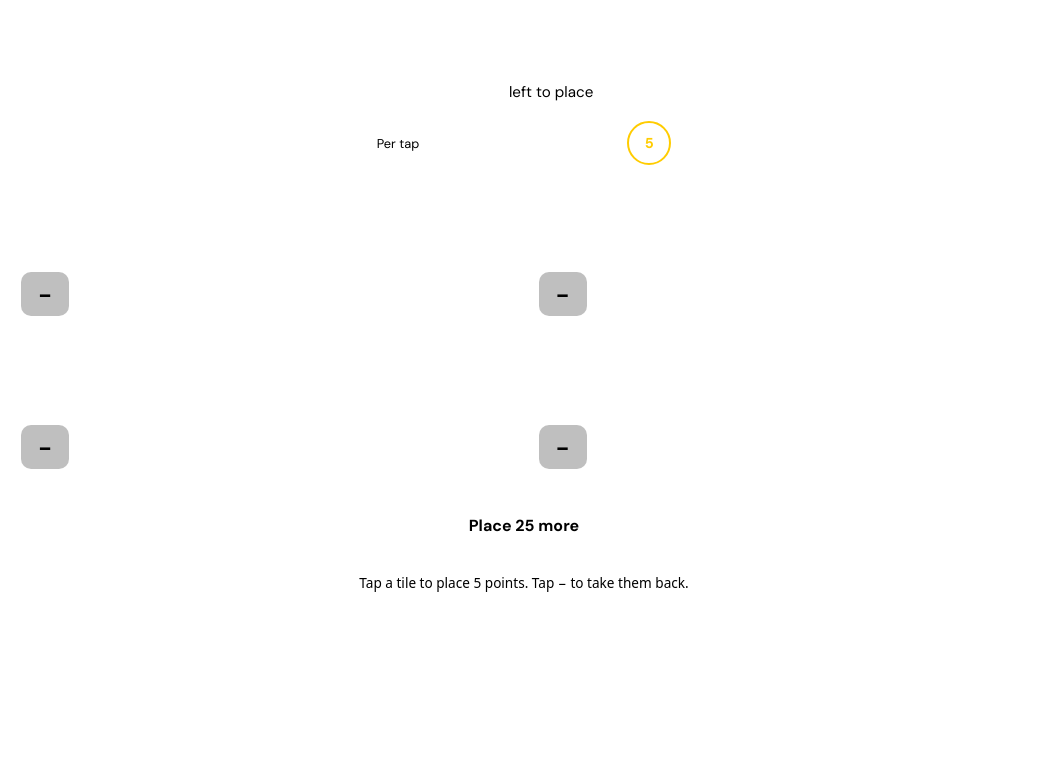
it: <DropBoard> › has no one-tap All in button — going all in takes deliberate taps
The image size is (1048, 780).
Click the button with aria-label "Add 5 points to Tile c": (265, 407) [13, 337, 517, 477]
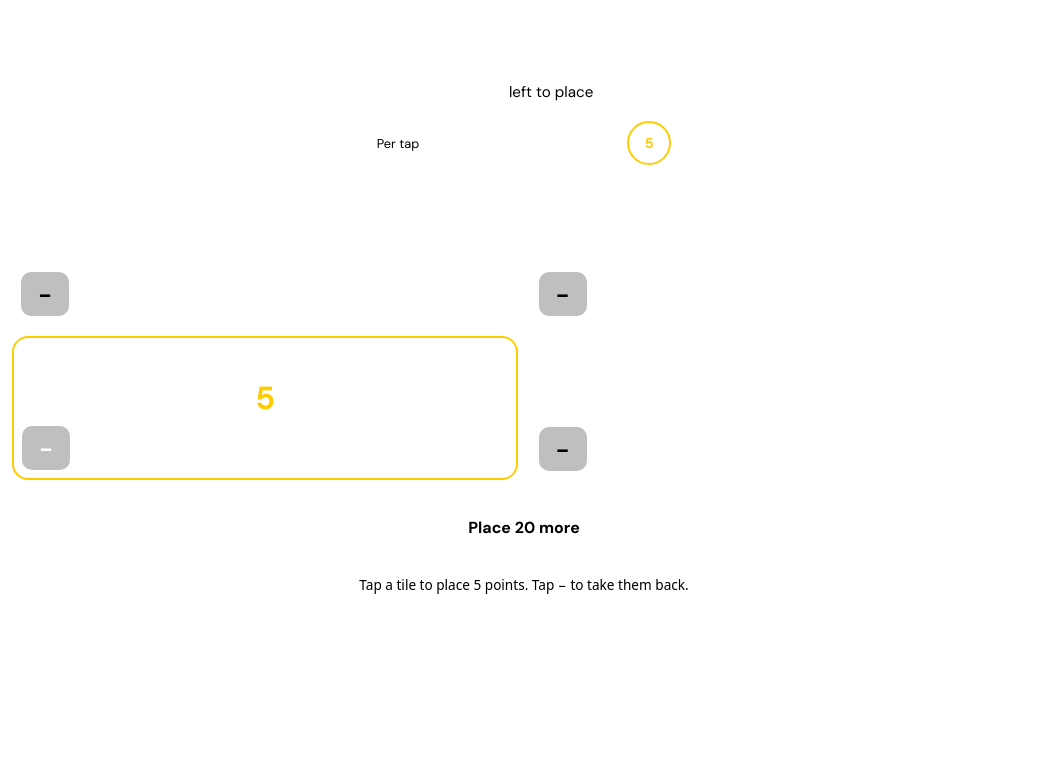
Click the button with aria-label "Add 5 points to Tile c": (265, 408) [14, 338, 516, 478]
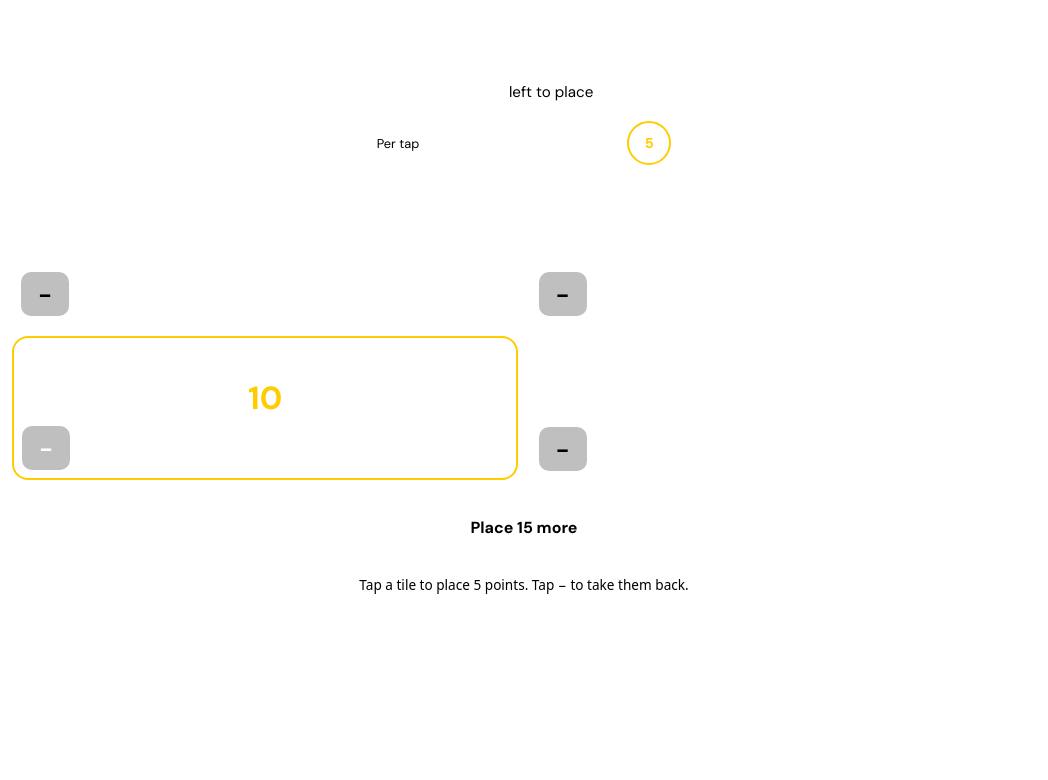
Click the button with aria-label "Add 5 points to Tile c": (265, 408) [14, 338, 516, 478]
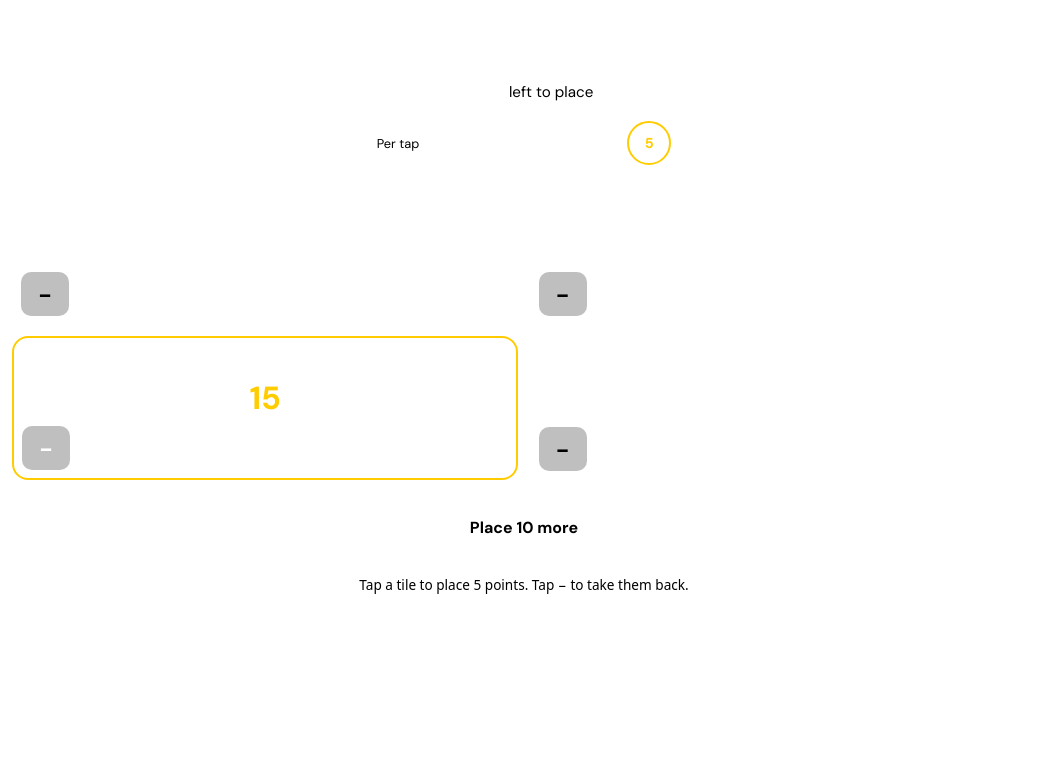
Click the button with aria-label "Add 5 points to Tile c": (265, 408) [14, 338, 516, 478]
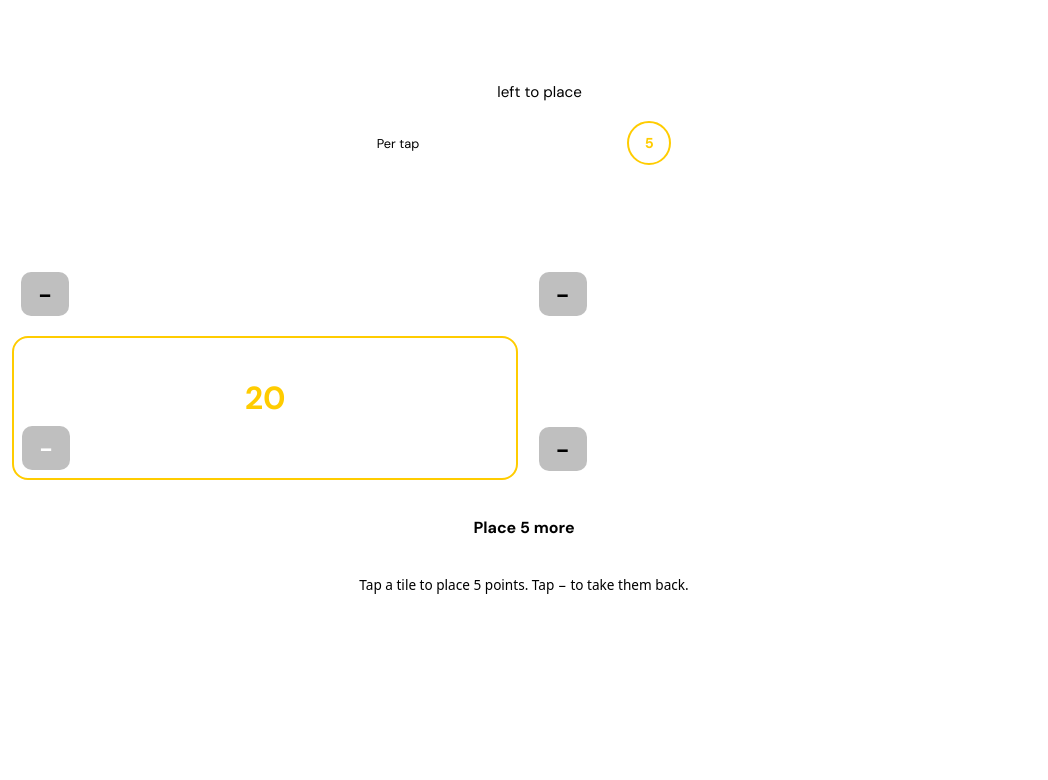
Click the button with aria-label "Add 5 points to Tile c": (265, 408) [14, 338, 516, 478]
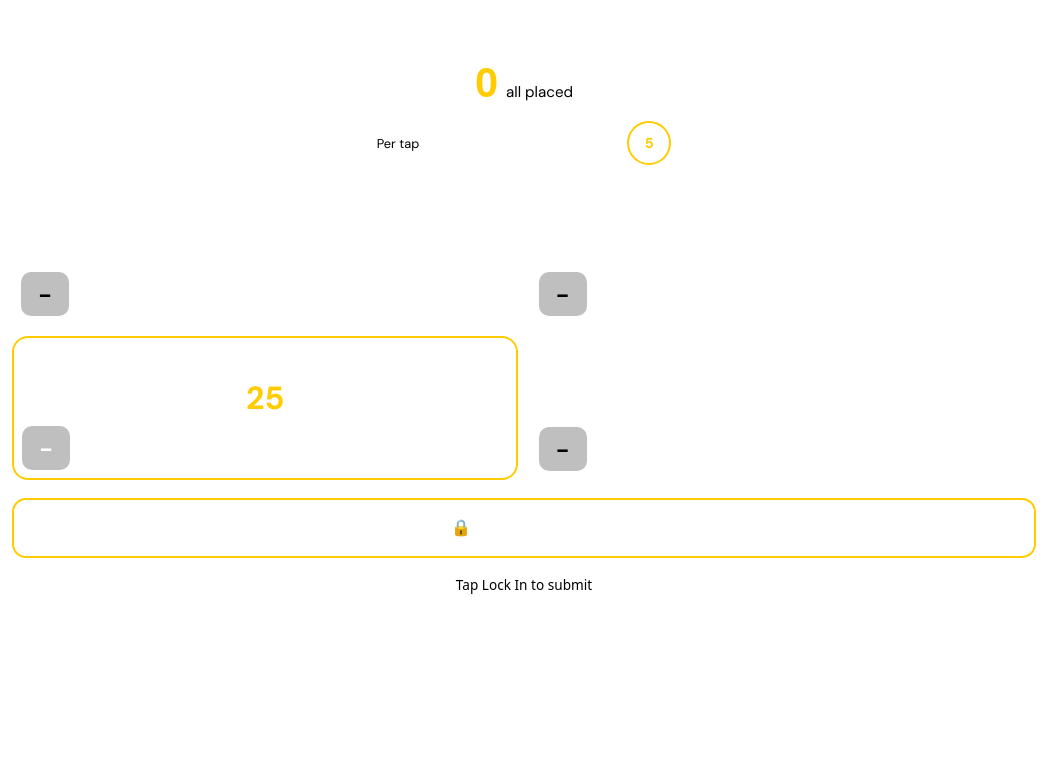
Check: the text "all placed" is shown, box [506, 81, 573, 104]
